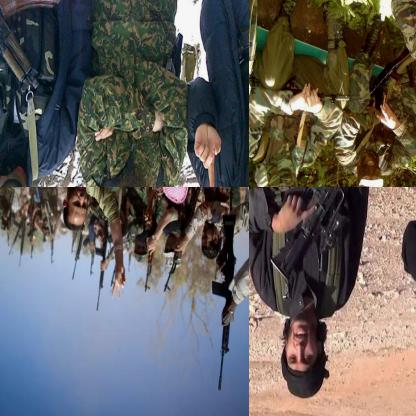rifle: (269, 187, 395, 288), (0, 0, 66, 97), (210, 213, 239, 394), (162, 187, 203, 291), (249, 74, 362, 111), (135, 191, 161, 292), (92, 223, 110, 313)
